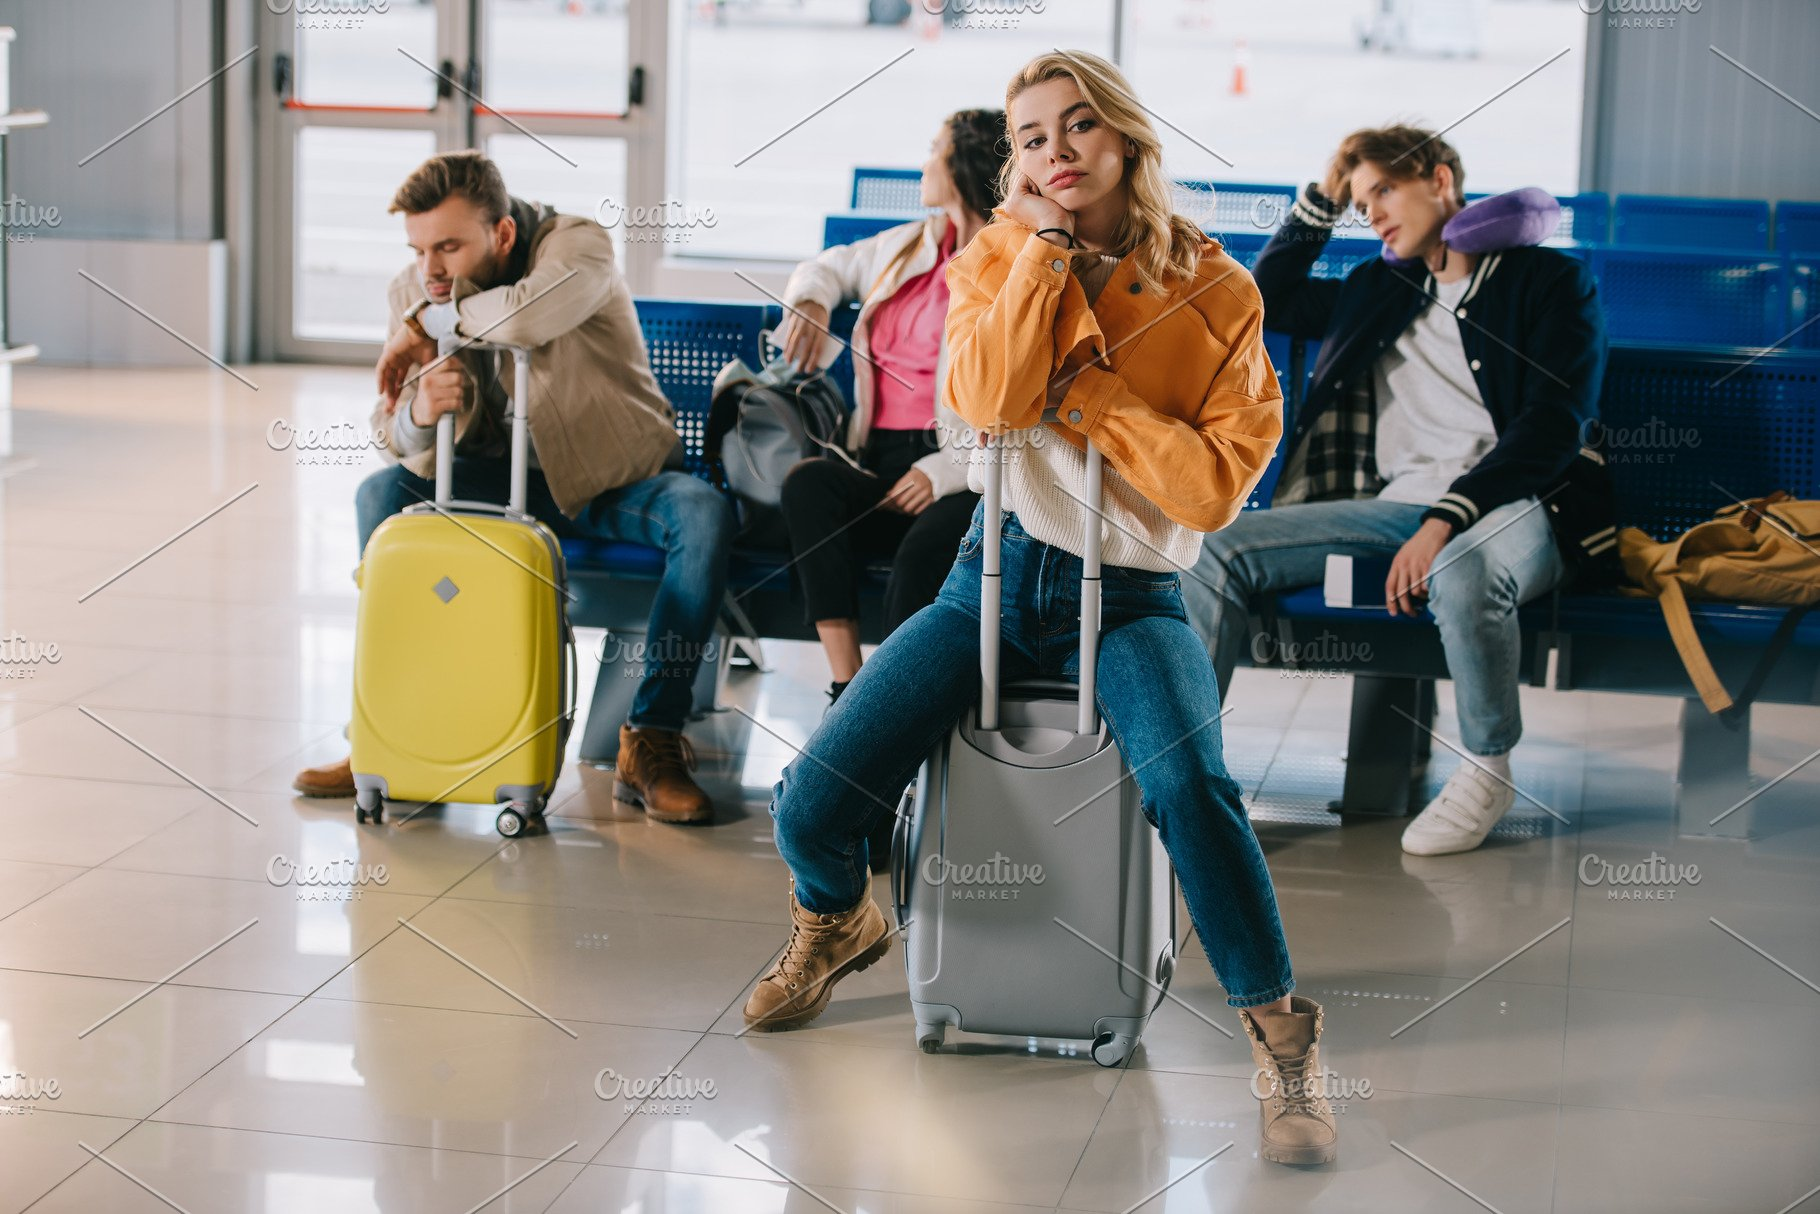backpack: (1617, 486, 1820, 690)
luggage: (737, 406, 1393, 1062), (230, 356, 726, 854)
shoulder bag: (682, 339, 867, 524)
